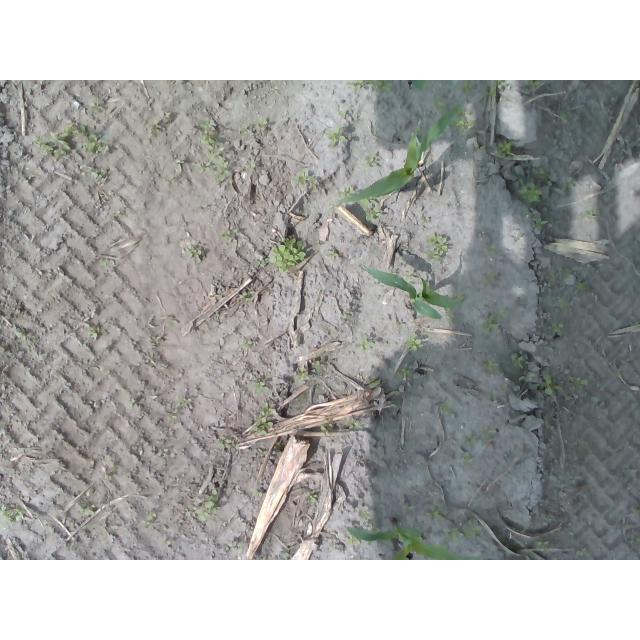Maize: (336, 100, 465, 212), (359, 261, 463, 322), (344, 516, 487, 560)
Weeds: (32, 122, 110, 159), (195, 116, 231, 184), (545, 265, 592, 294), (517, 165, 551, 205), (270, 238, 307, 273), (193, 490, 223, 523), (143, 110, 173, 138), (444, 519, 482, 541), (524, 371, 556, 397), (480, 309, 508, 336), (253, 400, 276, 432), (345, 80, 396, 94), (292, 171, 323, 192), (427, 233, 450, 261), (0, 504, 28, 524), (79, 161, 105, 181), (181, 244, 204, 265), (240, 118, 270, 134), (324, 124, 347, 144), (136, 509, 156, 531), (457, 111, 477, 133), (485, 80, 511, 96), (14, 326, 38, 343), (404, 334, 424, 353), (425, 505, 443, 523), (357, 336, 377, 352), (482, 355, 499, 373), (497, 139, 514, 157), (456, 80, 479, 93), (530, 217, 551, 231), (577, 377, 594, 394), (510, 351, 526, 369), (365, 209, 383, 224), (217, 434, 232, 450), (562, 176, 578, 191), (482, 245, 498, 260), (77, 505, 96, 517), (160, 175, 179, 187), (399, 366, 414, 381), (547, 322, 562, 336), (526, 80, 543, 92), (344, 418, 361, 430), (439, 401, 453, 415), (433, 99, 448, 112), (238, 339, 255, 350), (536, 539, 549, 553), (482, 271, 495, 285), (254, 256, 268, 269), (478, 426, 490, 441), (365, 156, 380, 168), (219, 228, 233, 240), (346, 537, 361, 548), (341, 185, 356, 196), (239, 291, 255, 301), (558, 111, 570, 124), (464, 434, 475, 447), (166, 411, 179, 422), (253, 381, 266, 392), (462, 452, 473, 464), (584, 207, 595, 219), (101, 259, 112, 270), (307, 493, 319, 503), (295, 368, 305, 380), (248, 158, 257, 171), (128, 399, 137, 410), (631, 535, 640, 546), (362, 510, 372, 519), (258, 447, 267, 457), (500, 383, 508, 394), (88, 328, 97, 337), (253, 490, 263, 498), (103, 474, 113, 482), (152, 335, 160, 345), (327, 250, 337, 258), (315, 361, 322, 372), (283, 552, 290, 560)
